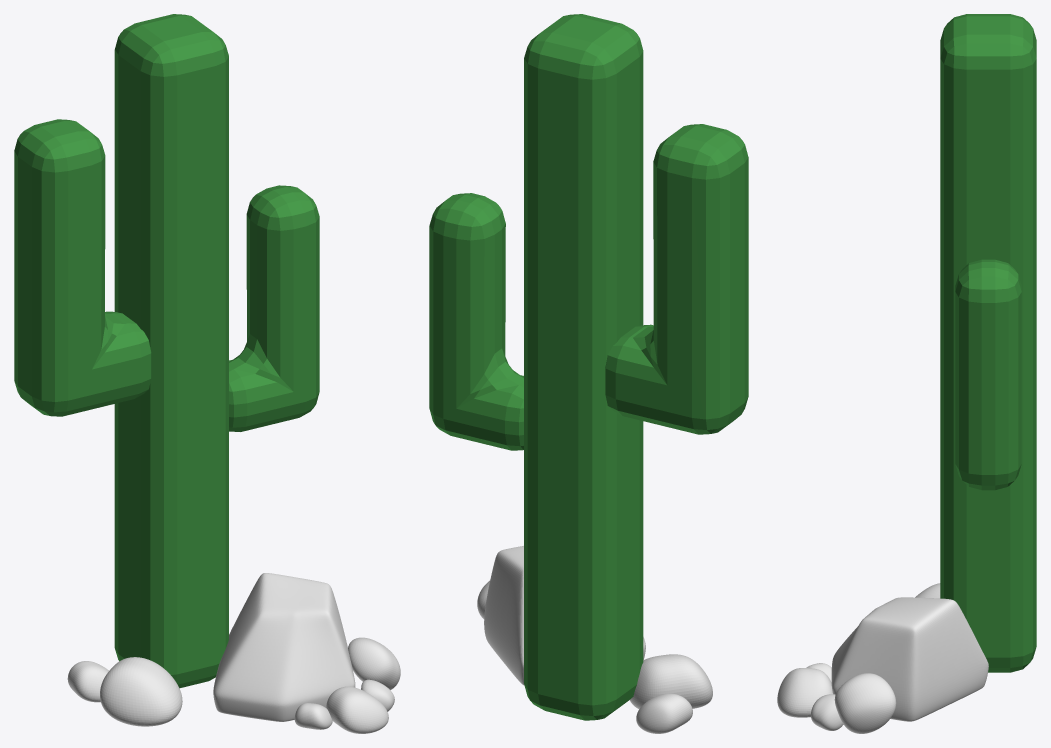
Rendered from outElement3.glb.
3 views of the same model, side by side, from view 1: azimuth 30°, elevation 25°; view 2: azimuth 150°, elevation 25°; view 3: azimuth 270°, elevation 25° (orthographic). The views are drawn at different scales.
Parts seen in each view (by area): view 1: Куб.001, Куб, Куб.006, Куб.002, Куб.008, Куб.007, Куб.003; view 2: Куб.001, Куб, Куб.006, Куб.007; view 3: Куб.001, Куб, Куб.008, Куб.002, Куб.009.
Part boxes in pixels (bbox=[...]): Куб.001: bbox=[14, 14, 319, 688]; Куб: bbox=[213, 573, 355, 721]; Куб.006: bbox=[100, 657, 182, 726]; Куб.002: bbox=[326, 686, 388, 733]; Куб.008: bbox=[348, 637, 400, 689]; Куб.007: bbox=[67, 661, 108, 702]; Куб.003: bbox=[294, 703, 332, 729]; Куб.001: bbox=[429, 14, 748, 720]; Куб: bbox=[484, 546, 645, 685]; Куб.006: bbox=[629, 654, 712, 708]; Куб.007: bbox=[636, 693, 692, 733]; Куб.001: bbox=[940, 14, 1036, 672]; Куб: bbox=[831, 597, 988, 721]; Куб.008: bbox=[834, 673, 896, 733]; Куб.002: bbox=[777, 668, 832, 717]; Куб.009: bbox=[811, 694, 843, 730].
Bounding box in the file's own units: 3.6 × 7.37 × 2.7.
